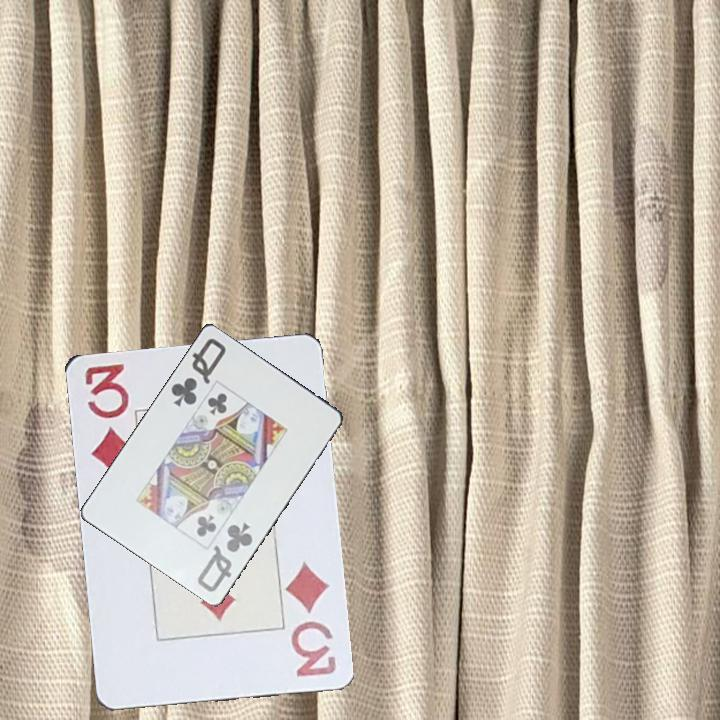3d: (282, 557, 339, 679), (81, 359, 135, 479)
Qc: (193, 518, 256, 595), (167, 334, 229, 410)
